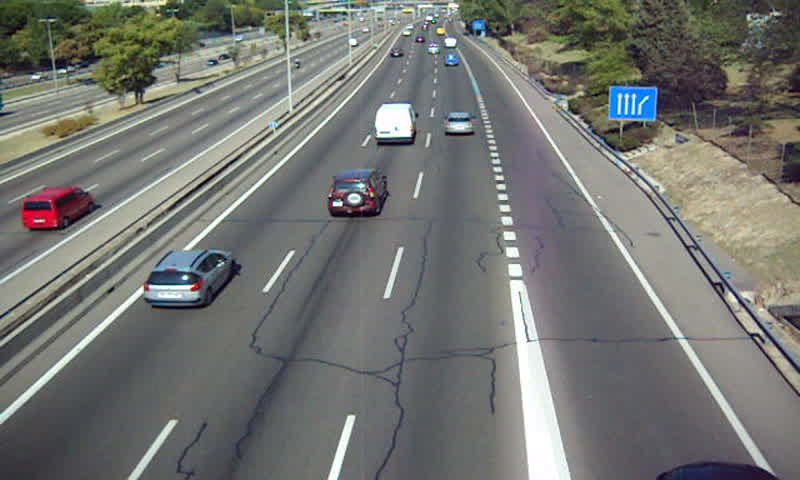car: (141, 248, 234, 306), (329, 170, 387, 216), (444, 112, 475, 136)
van: (374, 103, 418, 145)
